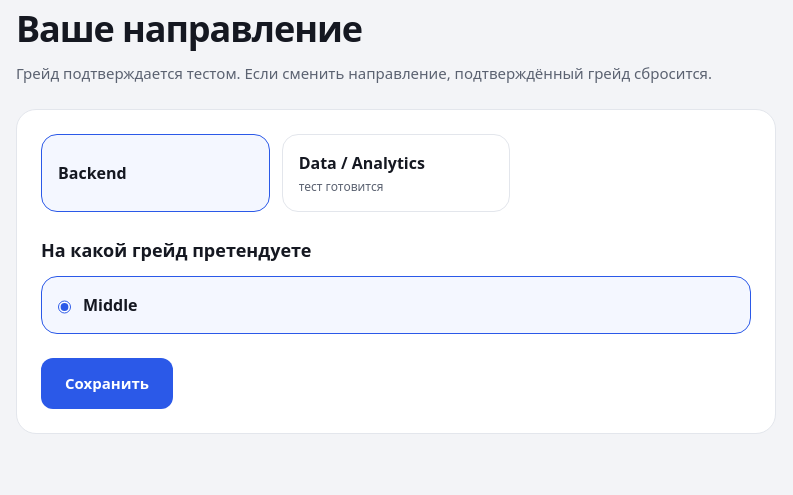
it: SurveyPage › marks directions without a test and shows a save error instead of failing silently
Click the button "Data / Analytics тест готовится".
click(396, 173)  # box [282,134,510,212]
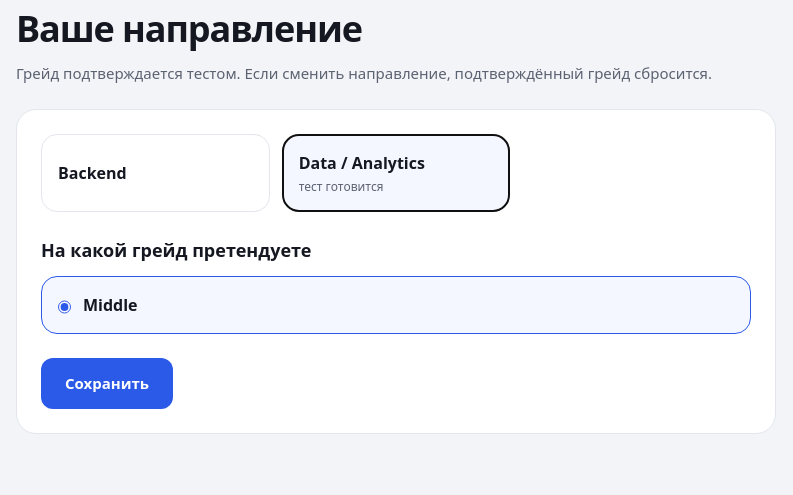
Click the button "Сохранить".
click(107, 384)  # box [41,358,173,409]
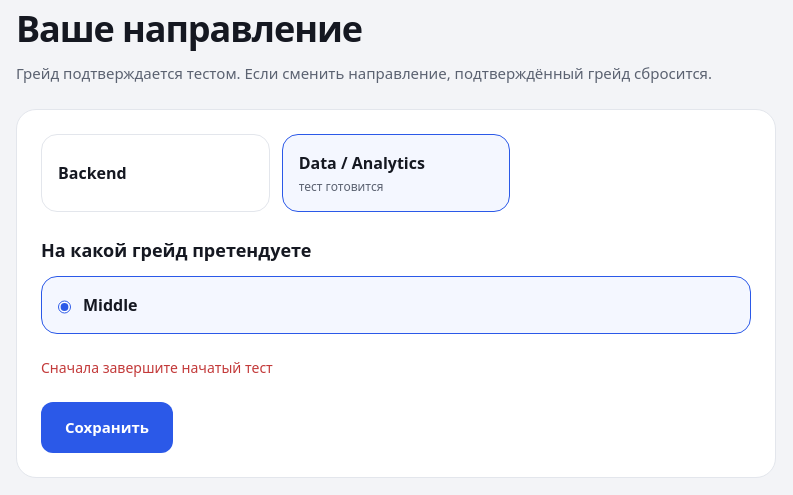
Expected: the message reads "Сначала завершите начатый тест", [41,358,273,377]
